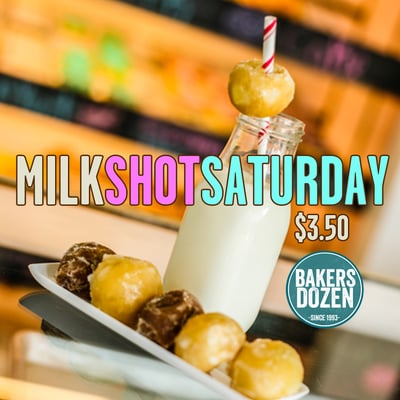salad: (88, 255, 164, 327), (173, 312, 246, 373), (136, 289, 205, 350), (55, 242, 117, 299)
